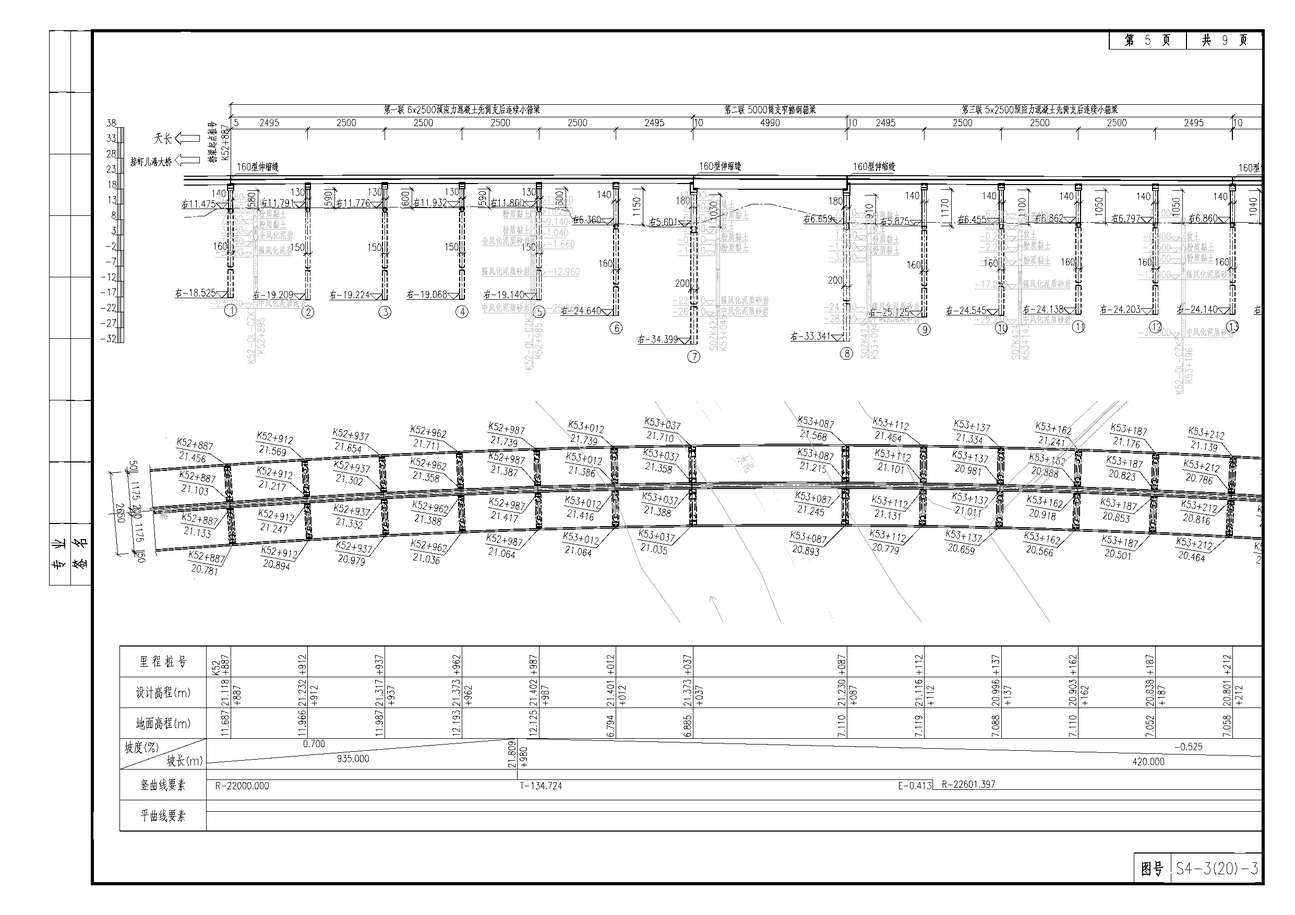A: (97, 76, 1272, 385)
